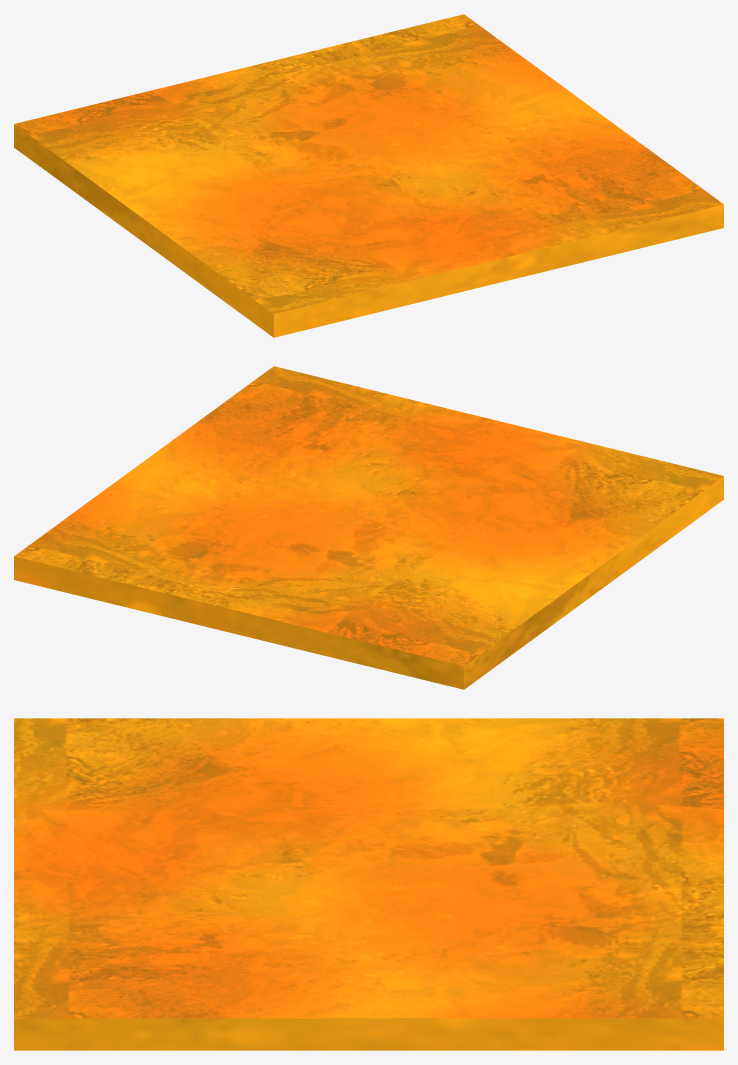
Rendered from lava.glb.
The picture shows the model from 3 angles, top to bottom: view 1: azimuth 30°, elevation 25°; view 2: azimuth 150°, elevation 25°; view 3: azimuth 270°, elevation 25°; orthographic projection. The views are drawn at different scales.
Parts seen in each view (by area): view 1: Cube; view 2: Cube; view 3: Cube.
Boxes of the visible parts, x1=… form: Cube: x1=14, y1=14, x2=723, y2=337; Cube: x1=14, y1=366, x2=723, y2=689; Cube: x1=14, y1=718, x2=723, y2=1050.
Bounding box in the file's own units: 2 × 0.1333 × 2.
1 material, 1 textured.
